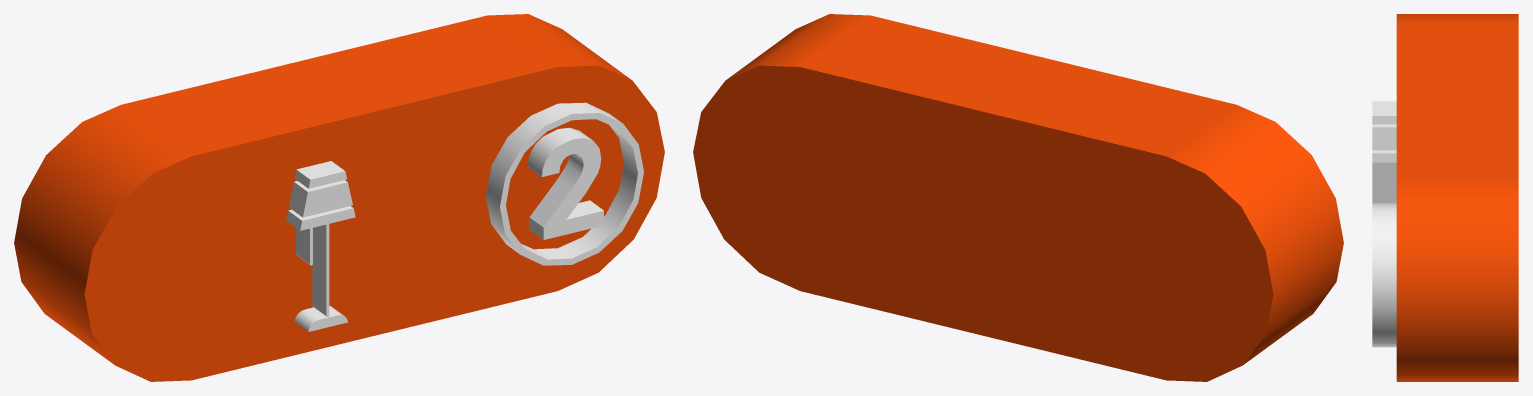
File: Lamp_2.fbx
The picture shows the model from 3 angles, left to right: view 1: azimuth 30°, elevation 25°; view 2: azimuth 150°, elevation 25°; view 3: azimuth 270°, elevation 25°; orthographic projection. The views are drawn at different scales.
Parts seen in each view (by area): view 1: Orange, Object_9, Object_10, Object_3, Object_5, Object_1, Object_4, Object_7, Object_6; view 2: Orange; view 3: Orange, Object_9, Object_5, Object_3, Object_1, Object_4.
Part boxes in pixels (x1,y1,x2,y2): Orange: (14,14,664,381); Object_9: (485,102,643,265); Object_10: (527,127,603,239); Object_3: (289,180,352,217); Object_5: (312,224,329,316); Object_1: (294,161,346,188); Object_4: (286,206,355,230); Object_7: (294,305,347,331); Object_6: (296,228,312,265); Orange: (693,14,1343,381); Orange: (1396,14,1518,381); Object_9: (1372,203,1396,347); Object_5: (1372,162,1396,203); Object_3: (1372,124,1396,150); Object_1: (1372,101,1396,124); Object_4: (1372,150,1396,162).
Bounding box in the file's own units: 4.75 × 1.2 × 1.75.
